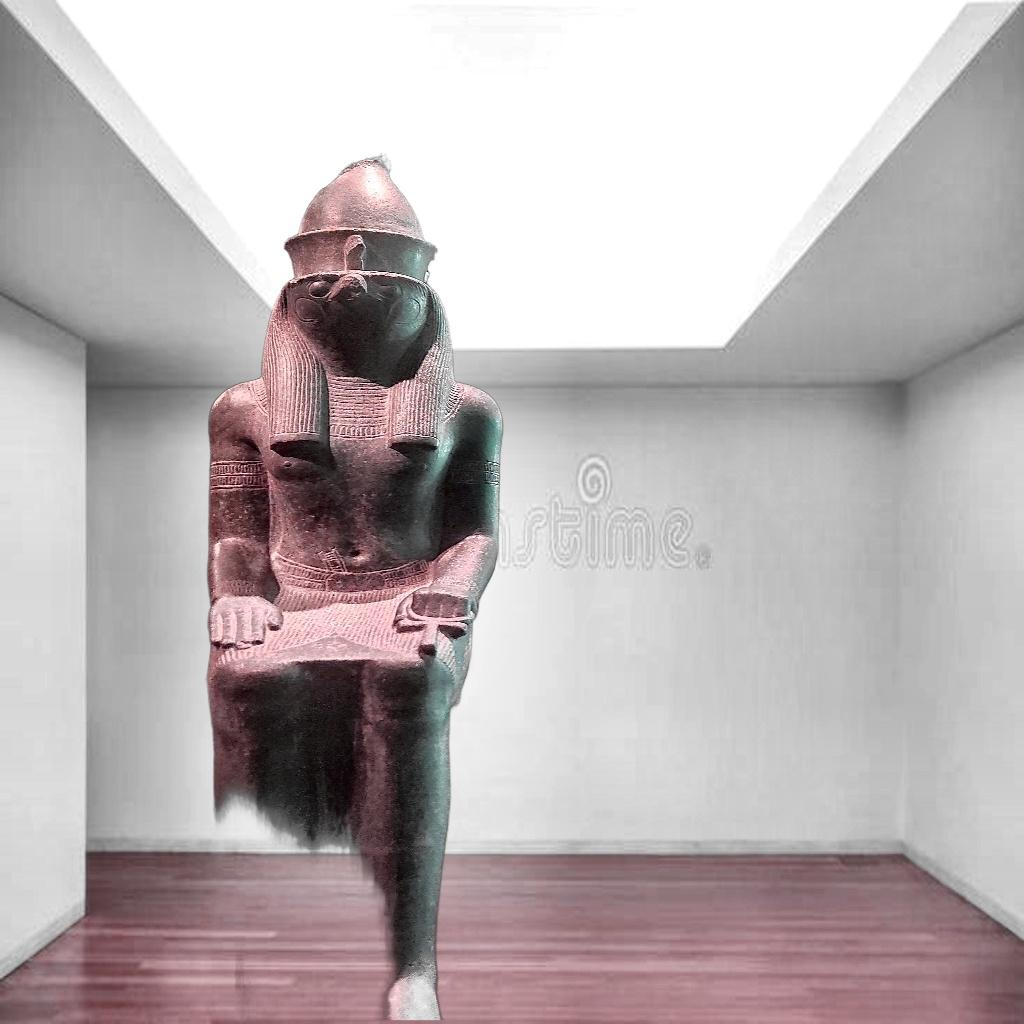Statue of God Ra-Horakhty: (162, 150, 516, 1021)
